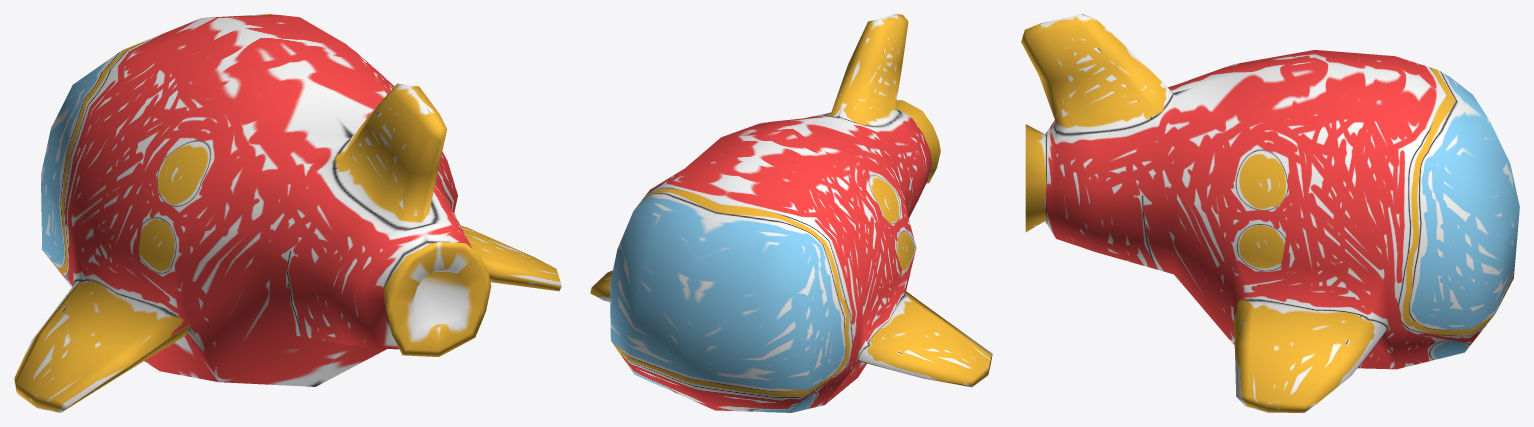
The model's file is feichuan_H.FBX.
The picture shows the model from 3 angles, left to right: view 1: azimuth 30°, elevation 25°; view 2: azimuth 150°, elevation 25°; view 3: azimuth 270°, elevation 25°; orthographic projection. The views are drawn at different scales.
Visible parts, largest first — view 1: feichuan_H; view 2: feichuan_H; view 3: feichuan_H.
Boxes of the visible parts, x1,y1,x2,y2 form: feichuan_H: (14, 14, 561, 412); feichuan_H: (590, 14, 992, 412); feichuan_H: (1021, 14, 1519, 412).
Size of the model in its own units: 202 by 144 by 198.
Materials: 1 (1 with a texture image).
